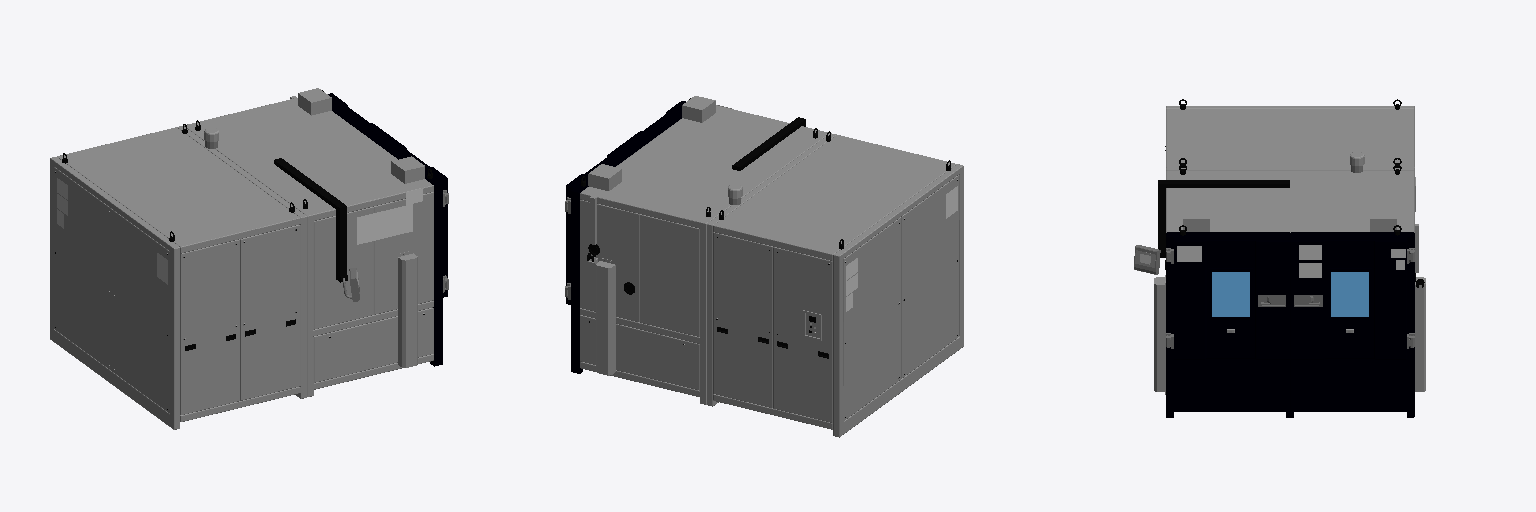
The model's file is 18GDWCJX.obj.
3 views of the same model, side by side, from view 1: azimuth 30°, elevation 25°; view 2: azimuth 150°, elevation 25°; view 3: azimuth 270°, elevation 25° (orthographic).
Visible parts, largest first — view 1: Matel_02, Matel_Blue, Tex, Matel_03, Matel_05, Matel_01; view 2: Matel_02, Matel_Blue, Matel_03, Matel_05, Tex; view 3: Matel_Blue, Matel_02, Glass, Matel_03, Matel_05, Matel_01, Tex.
Boxes of the visible parts, x1=… form: Matel_02: x1=50, y1=88, x2=433, y2=429; Matel_Blue: x1=328, y1=93, x2=447, y2=366; Tex: x1=57, y1=178, x2=422, y2=284; Matel_03: x1=398, y1=251, x2=417, y2=367; Matel_05: x1=55, y1=90, x2=432, y2=409; Matel_01: x1=205, y1=141, x2=448, y2=301; Matel_02: x1=580, y1=96, x2=963, y2=437; Matel_Blue: x1=566, y1=101, x2=685, y2=373; Matel_03: x1=596, y1=258, x2=615, y2=375; Matel_05: x1=581, y1=98, x2=957, y2=417; Tex: x1=718, y1=105, x2=957, y2=332; Matel_Blue: x1=1166, y1=232, x2=1414, y2=417; Matel_02: x1=1135, y1=106, x2=1421, y2=332; Glass: x1=1212, y1=272, x2=1368, y2=316; Matel_03: x1=1154, y1=275, x2=1425, y2=394; Matel_05: x1=1158, y1=99, x2=1424, y2=287; Matel_01: x1=1134, y1=165, x2=1414, y2=348; Tex: x1=1140, y1=245, x2=1405, y2=277.
Bounding box in the file's own units: 116 × 78.62 × 105.